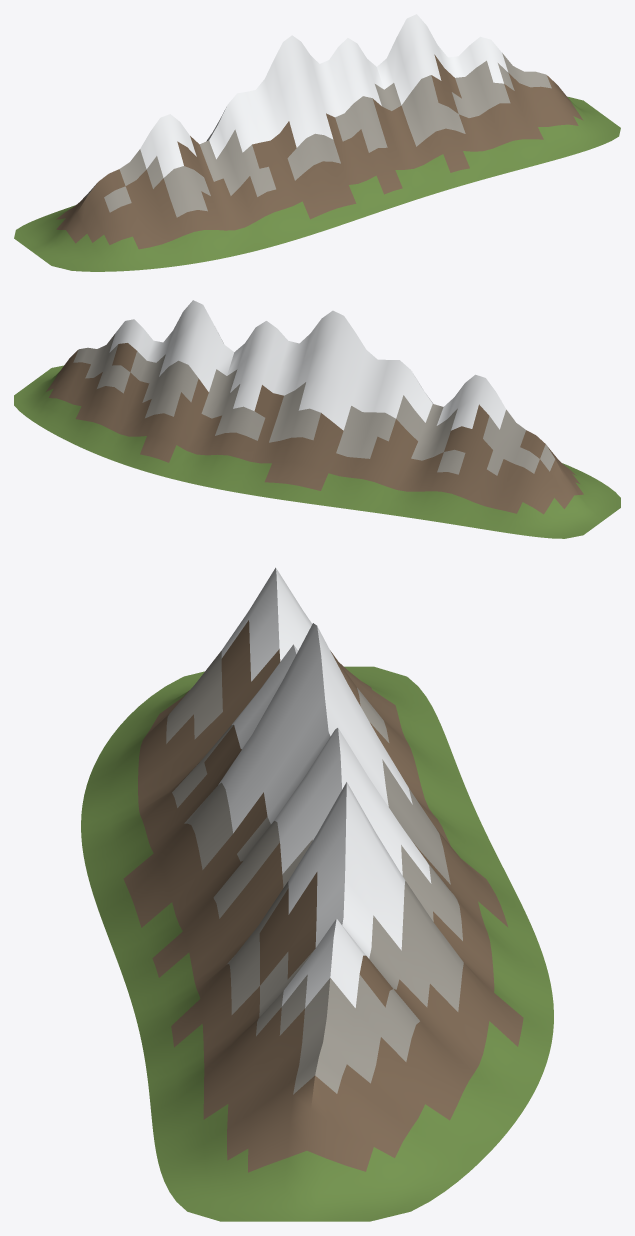
File: mountain_range.glb
3 renders of one model, top to bottom at view 1: azimuth 30°, elevation 25°; view 2: azimuth 150°, elevation 25°; view 3: azimuth 270°, elevation 25°, orthographic. The views are drawn at different scales.
Parts seen in each view (by area): view 1: body; view 2: body; view 3: body.
Boxes of the visible parts, <box> form: body: <box>14,14,620,271</box>; body: <box>14,300,620,538</box>; body: <box>81,567,553,1221</box>.
Bounding box in the file's own units: 184 × 46.17 × 66.29.
